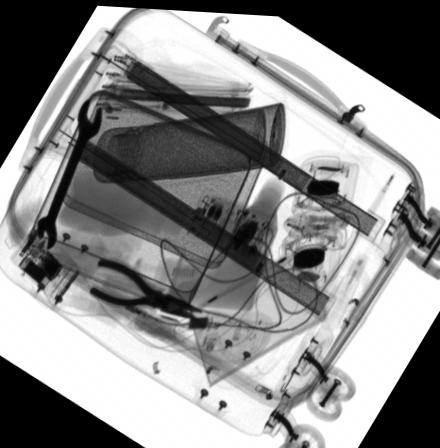Pliers: (87, 256, 202, 315)
Wrench: (37, 96, 102, 247)
